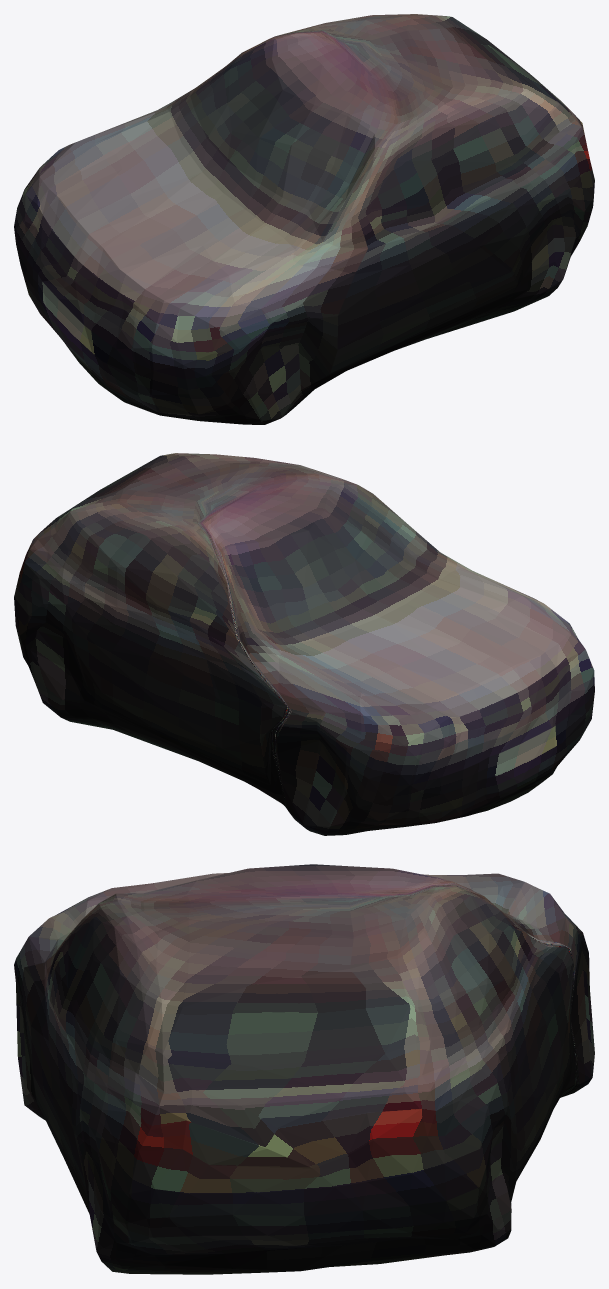
The model's file is video3_42.obj.
3 views of the same model, one above another, from view 1: azimuth 30°, elevation 25°; view 2: azimuth 150°, elevation 25°; view 3: azimuth 270°, elevation 25° (orthographic). The views are drawn at different scales.
Size of the model in its own units: 1 by 0.4973 by 0.747.
Materials: 1 (1 with a texture image).
